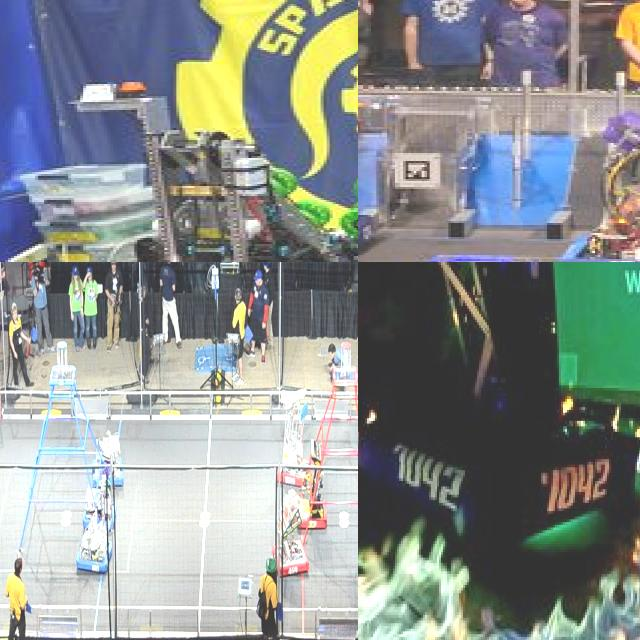FRC-Robots: (358, 262, 640, 555), (0, 102, 358, 262), (550, 137, 640, 262), (358, 124, 399, 262), (265, 434, 327, 490), (268, 485, 334, 531), (72, 514, 112, 582), (264, 527, 316, 577), (87, 431, 129, 492), (72, 484, 120, 524)
